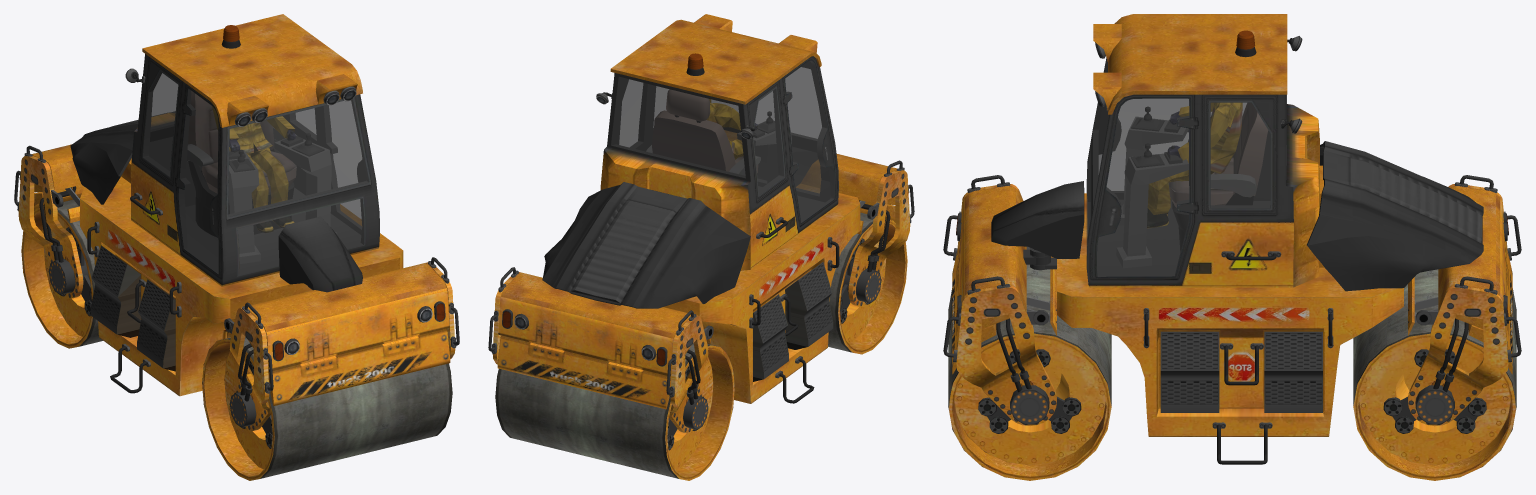
The model's file is roller.glb.
The picture shows the model from 3 angles, left to right: view 1: azimuth 30°, elevation 25°; view 2: azimuth 150°, elevation 25°; view 3: azimuth 270°, elevation 25°; orthographic projection. The views are drawn at different scales.
Visible parts, largest first — view 1: Body_1_Textures 1_0, Body_2_Textures 2_0, Body_1_Glass_0, Wheel_F_Textures 2_0, Body_1_Textures 4_0, Body_3_Textures 2_0, Wheel_B_Textures 2_0, Body_1_Textures. Engineer_0; view 2: Body_1_Textures 1_0, Body_3_Textures 2_0, Body_1_Glass_0, Wheel_B_Textures 2_0, Body_1_Textures 4_0, Body_2_Textures 2_0, Wheel_F_Textures 2_0, Body_1_Textures. Engineer_0; view 3: Body_1_Textures 1_0, Body_1_Glass_0, Wheel_B_Textures 2_0, Wheel_F_Textures 2_0, Body_2_Textures 2_0, Body_1_Textures 4_0, Body_3_Textures 2_0, Body_1_Textures. Engineer_0.
Part boxes in pixels (box(x1,y1,x2,y2)): Body_1_Textures 1_0: box(70, 14, 403, 396); Body_2_Textures 2_0: box(224, 257, 459, 430); Body_1_Glass_0: box(143, 71, 368, 275); Wheel_F_Textures 2_0: box(202, 337, 452, 480); Body_1_Textures 4_0: box(143, 71, 368, 275); Body_3_Textures 2_0: box(14, 144, 89, 298); Wheel_B_Textures 2_0: box(21, 198, 102, 348); Body_1_Textures. Engineer_0: box(212, 106, 295, 232); Body_1_Textures 1_0: box(542, 14, 860, 403); Body_3_Textures 2_0: box(488, 267, 713, 432); Body_1_Glass_0: box(611, 61, 834, 222); Wheel_B_Textures 2_0: box(495, 343, 734, 480); Body_1_Textures 4_0: box(607, 61, 834, 222); Body_2_Textures 2_0: box(724, 130, 914, 306); Wheel_F_Textures 2_0: box(828, 212, 907, 354); Body_1_Textures. Engineer_0: box(706, 99, 757, 159); Body_1_Textures 1_0: box(991, 14, 1483, 464); Body_1_Glass_0: box(1086, 59, 1286, 276); Wheel_B_Textures 2_0: box(1353, 269, 1516, 480); Wheel_F_Textures 2_0: box(948, 264, 1111, 480); Body_2_Textures 2_0: box(943, 175, 1056, 425); Body_1_Textures 4_0: box(1086, 59, 1286, 276); Body_3_Textures 2_0: box(1408, 175, 1521, 426); Body_1_Textures. Engineer_0: box(1147, 102, 1242, 228).
Size of the model in its own units: 0.5405 by 0.8117 by 1.07.
Materials: 5 (4 with a texture image).
